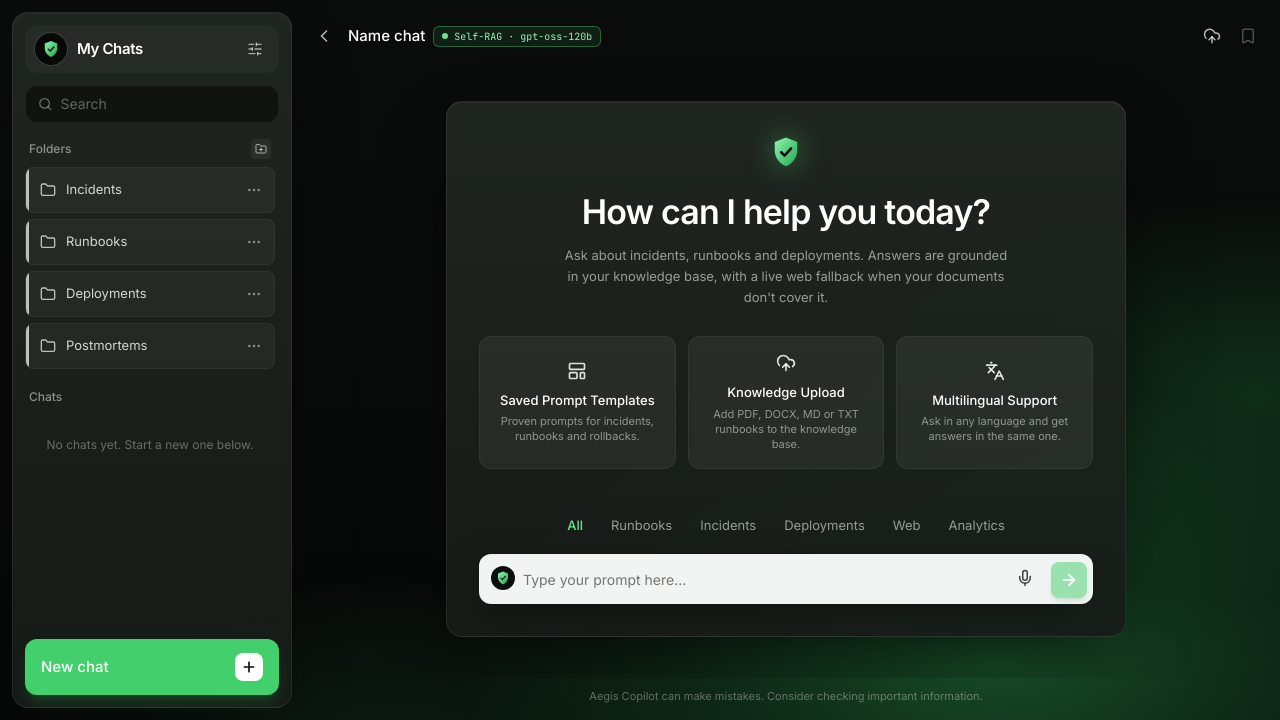
Scenario: ChatApp › renames the chat from the header and pins it
This screenshot has width=1280, height=720.
Step 1. Type "original title" into the text box named "Message" → (761, 580), box [523,562,999,598]
Then press Enter
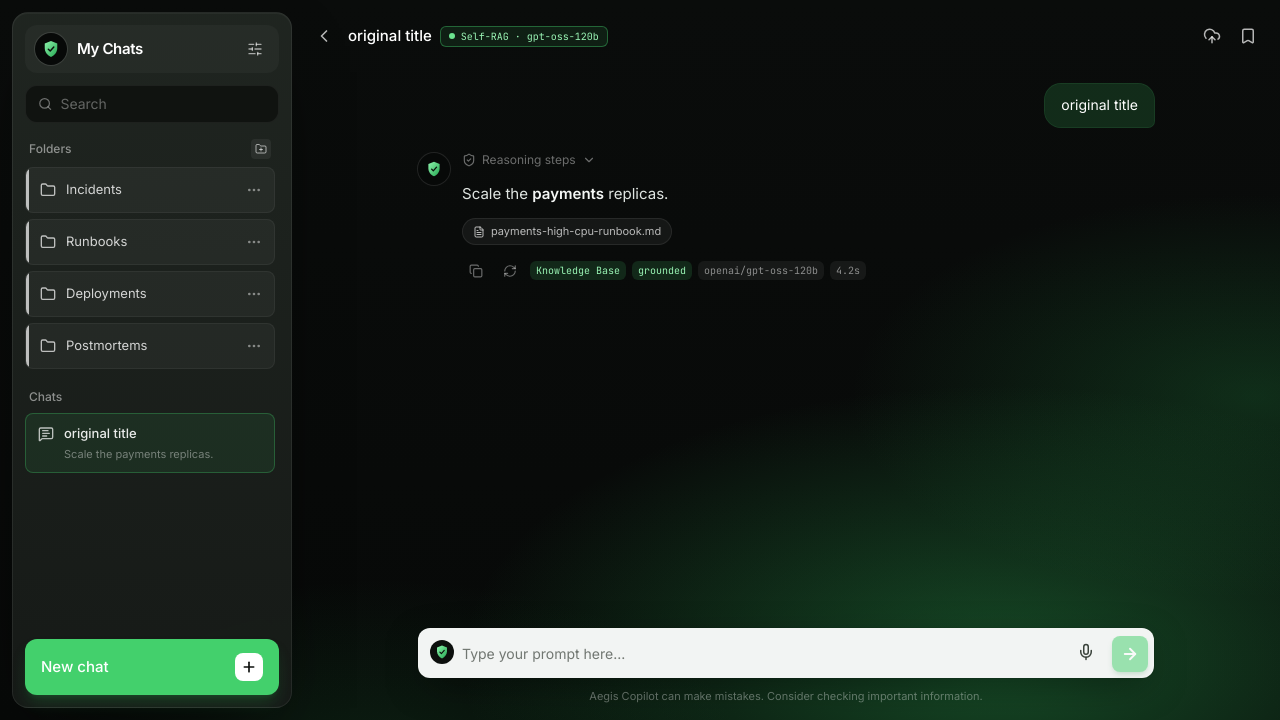
expect the text "Knowledge Base" is shown: met, box [530,261,626,280]
Step 2. Click the button "original title" → (390, 36), box [348,25,432,47]
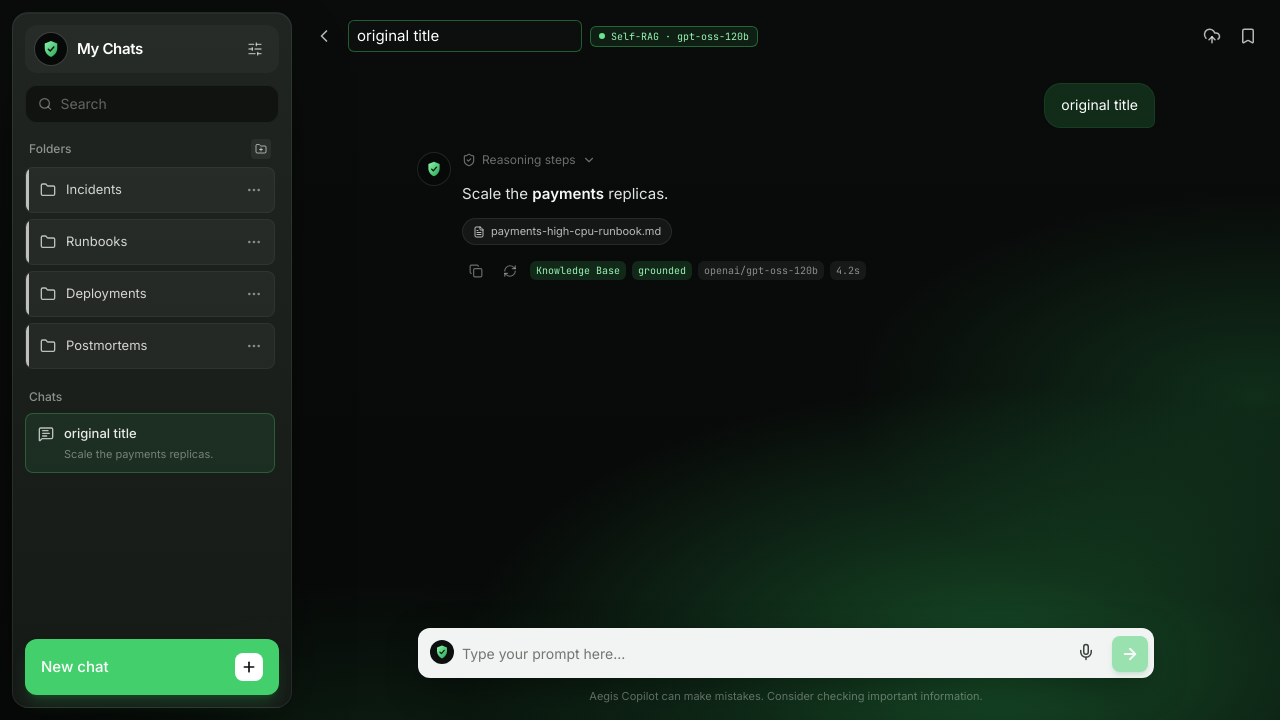
Step 3. Replace the text in the field showing "original title" with "Payments incident" → (465, 36), box [348,20,582,52]
Then press Enter
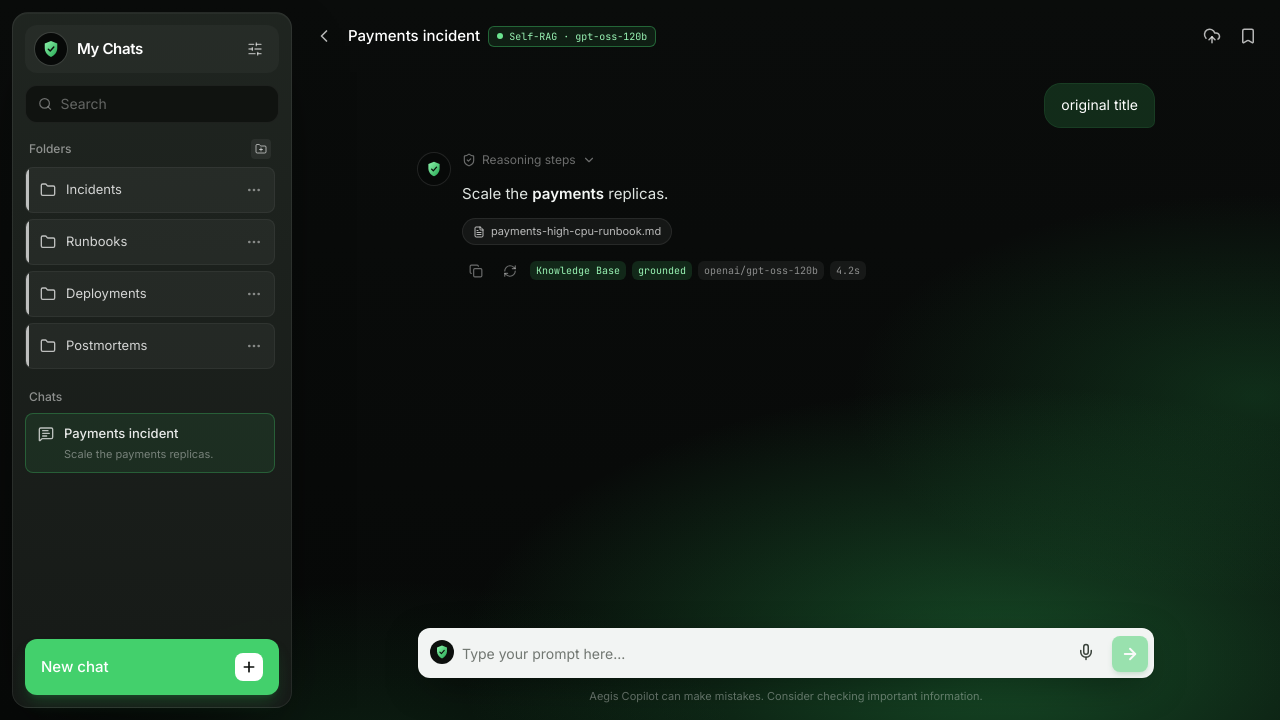
expect the button "Payments incident" is shown: met, box [348,25,480,47]
Step 4. Click the button named "Pin chat" → (1248, 36), box [1232,20,1264,52]
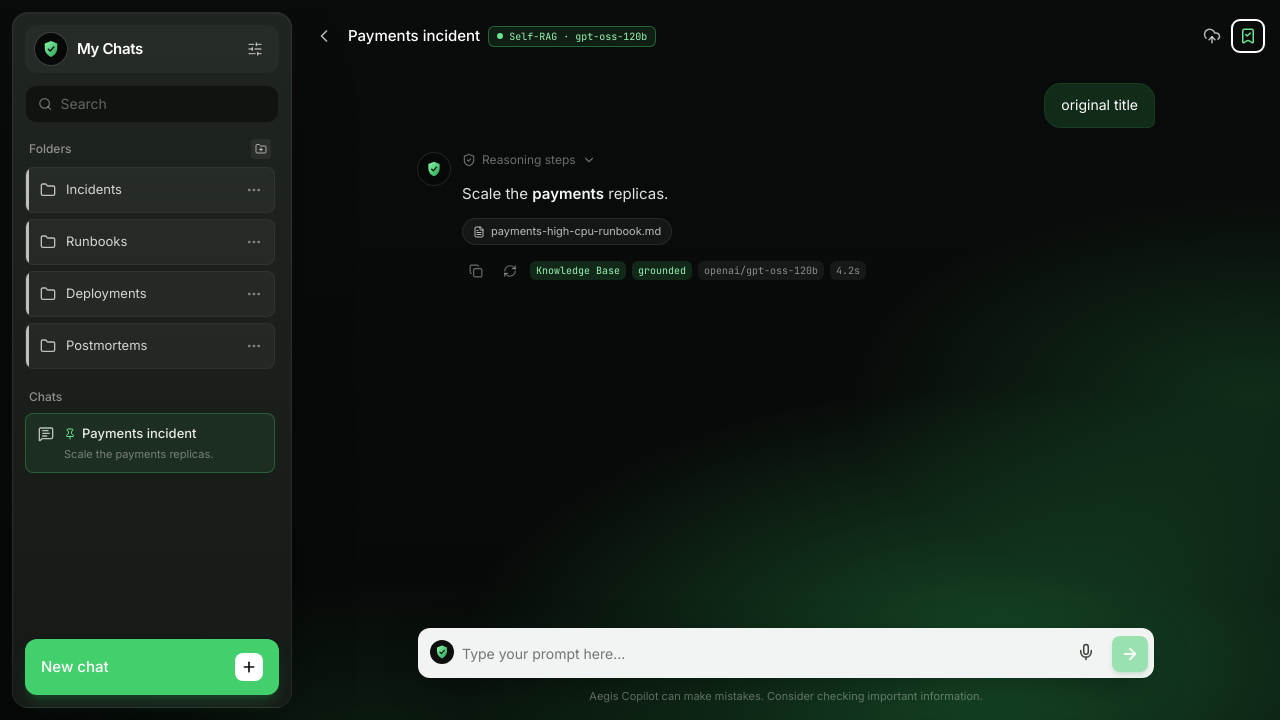
expect the button named "Unpin chat" is shown: met, box [1232,20,1264,52]
